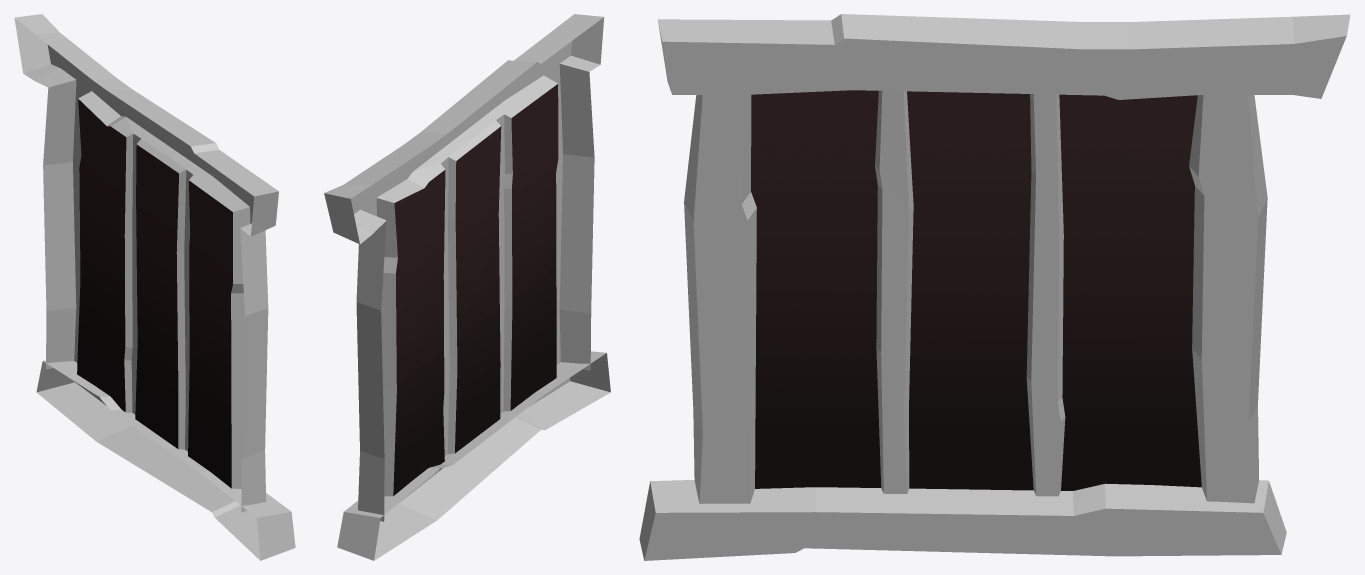
File: lower_city_window_05.fbx
The picture shows the model from 3 angles, left to right: view 1: azimuth 30°, elevation 25°; view 2: azimuth 150°, elevation 25°; view 3: azimuth 270°, elevation 25°; orthographic projection. The views are drawn at different scales.
Visible parts, largest first — view 1: lower_city_window_05; view 2: lower_city_window_05; view 3: lower_city_window_05.
Part boxes in pixels (<box>): lower_city_window_05: <box>14,14,295,560</box>; lower_city_window_05: <box>324,14,610,560</box>; lower_city_window_05: <box>639,14,1350,560</box>.
Bounding box in the file's own units: 0.1008 × 0.9544 × 1.17.
